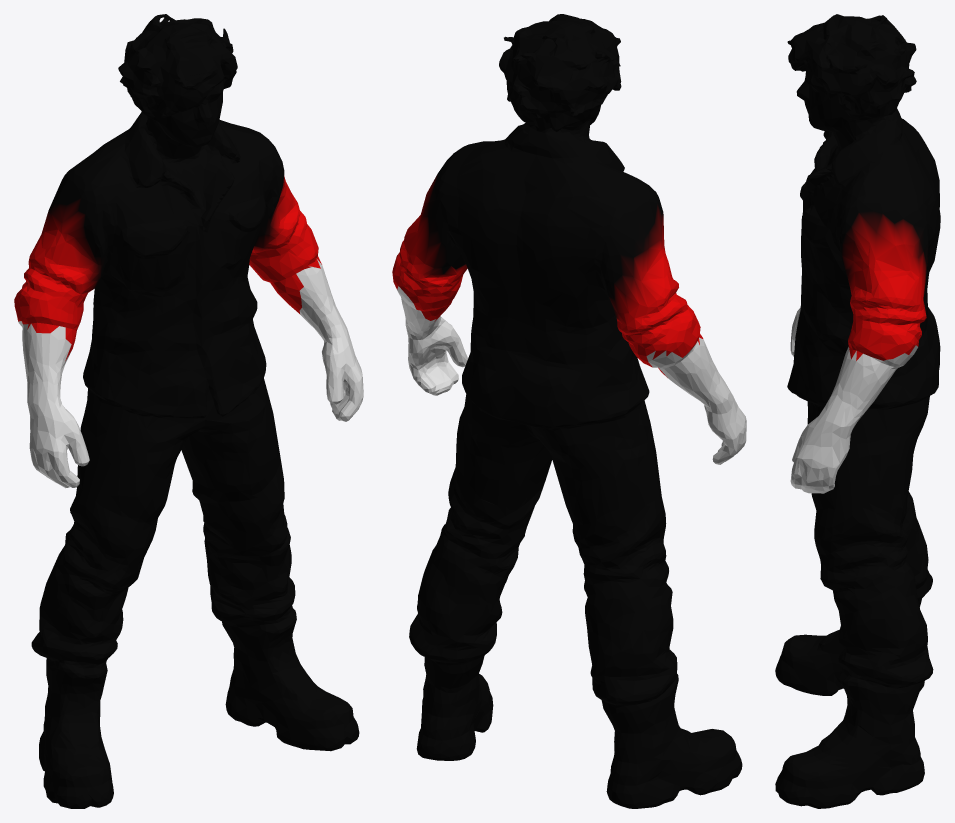
Rendered from continuous-arm.fbx.
The picture shows the model from 3 angles, left to right: view 1: azimuth 30°, elevation 25°; view 2: azimuth 150°, elevation 25°; view 3: azimuth 270°, elevation 25°; orthographic projection. The views are drawn at different scales.
Parts seen in each view (by area): view 1: continuous_body, plain_left_upper, continuous_arm_bridge, plain_left_forearm, plain_right_forearm, plain_right_upper, plain_left_hand, plain_right_hand; view 2: continuous_body, plain_left_upper, continuous_arm_bridge, plain_left_forearm, plain_right_hand, plain_right_upper, plain_right_forearm, plain_left_hand; view 3: continuous_body, plain_right_upper, plain_right_forearm, continuous_arm_bridge, plain_right_hand.
Part boxes in pixels (<box>): continuous_body: <box>31,14,359,808</box>; plain_left_upper: <box>14,173,97,333</box>; continuous_arm_bridge: <box>65,195,303,488</box>; plain_left_forearm: <box>18,321,85,451</box>; plain_right_forearm: <box>296,259,362,382</box>; plain_right_upper: <box>260,133,321,269</box>; plain_left_hand: <box>29,430,89,488</box>; plain_right_hand: <box>326,364,363,421</box>; continuous_body: <box>409,14,742,808</box>; plain_left_upper: <box>611,190,703,359</box>; continuous_arm_bridge: <box>409,216,667,500</box>; plain_left_forearm: <box>646,337,745,432</box>; plain_right_hand: <box>408,343,467,395</box>; plain_right_upper: <box>392,145,466,296</box>; plain_right_forearm: <box>397,286,463,358</box>; plain_left_hand: <box>709,414,746,464</box>; continuous_body: <box>775,14,940,808</box>; plain_right_upper: <box>839,195,927,360</box>; plain_right_forearm: <box>798,345,917,463</box>; continuous_arm_bridge: <box>834,250,928,514</box>; plain_right_hand: <box>790,441,848,493</box>.
Size of the model in its own units: 84.79 by 182 by 37.94.
